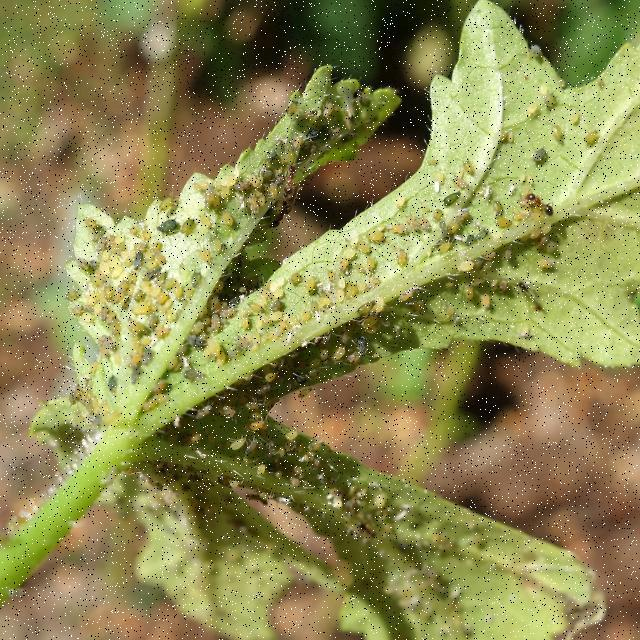Aphids: (173, 226, 388, 389), (101, 31, 338, 175), (8, 142, 262, 264)
